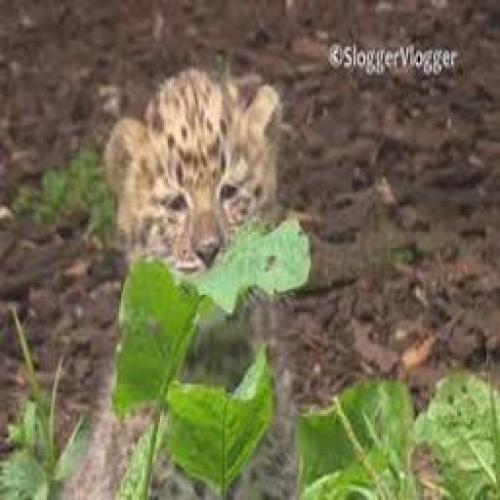amur_leopard-endangered: (101, 62, 299, 500)
